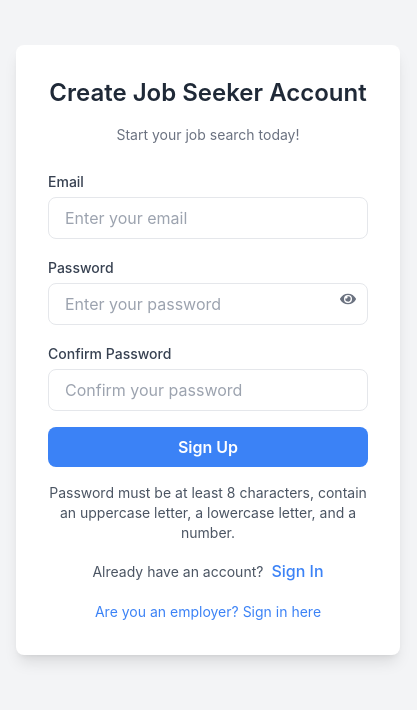
Test: AuthForm Component Tests › rejects mismatched passwords during sign-up
Type "test@example.com" into the field with placeholder "Enter your email" at (208,218), box [48,197,368,239]
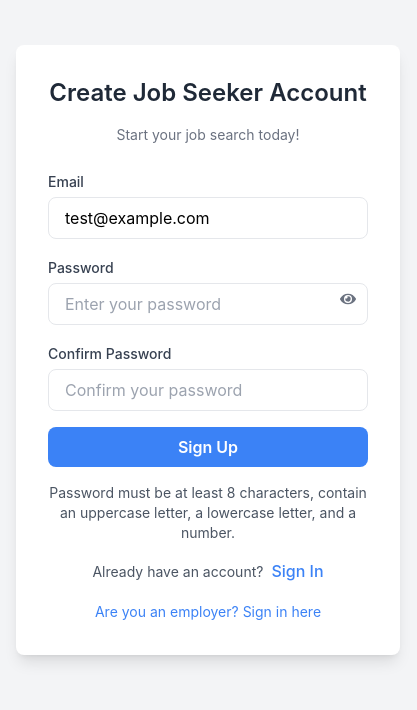
Type "Pass123" into the password field with placeholder "Enter your password" at (208,304), box [48,283,368,325]
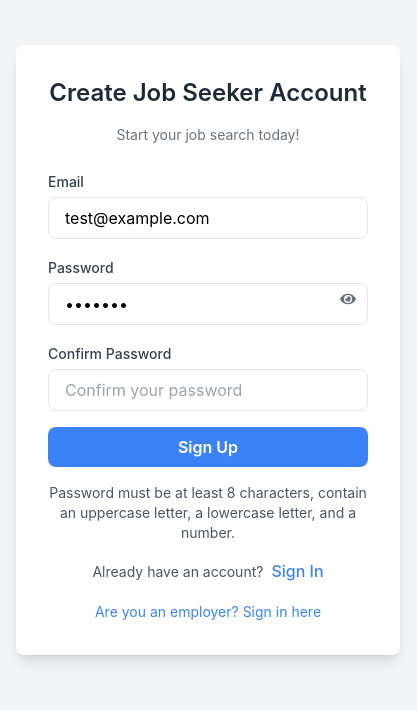
Type "Pass456" into the password field with placeholder "Confirm your password" at (208,390), box [48,369,368,411]
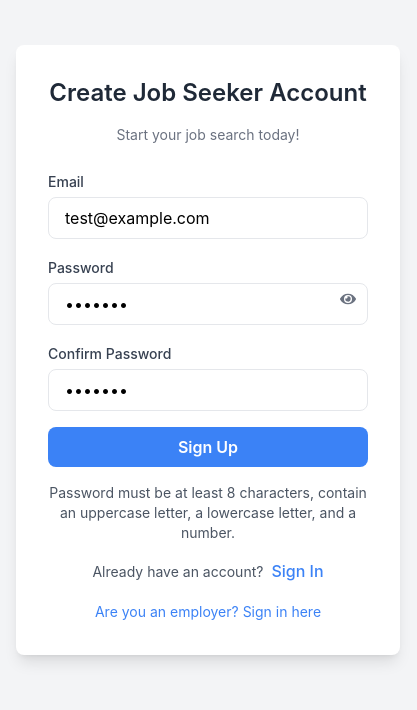
Click the button "Sign Up" at (208,447), box [48,427,368,467]
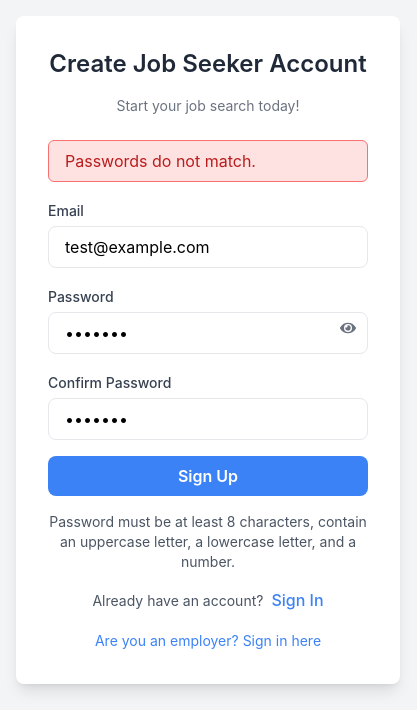
Result: the text "Passwords do not match." is shown at [48,140,368,182]
